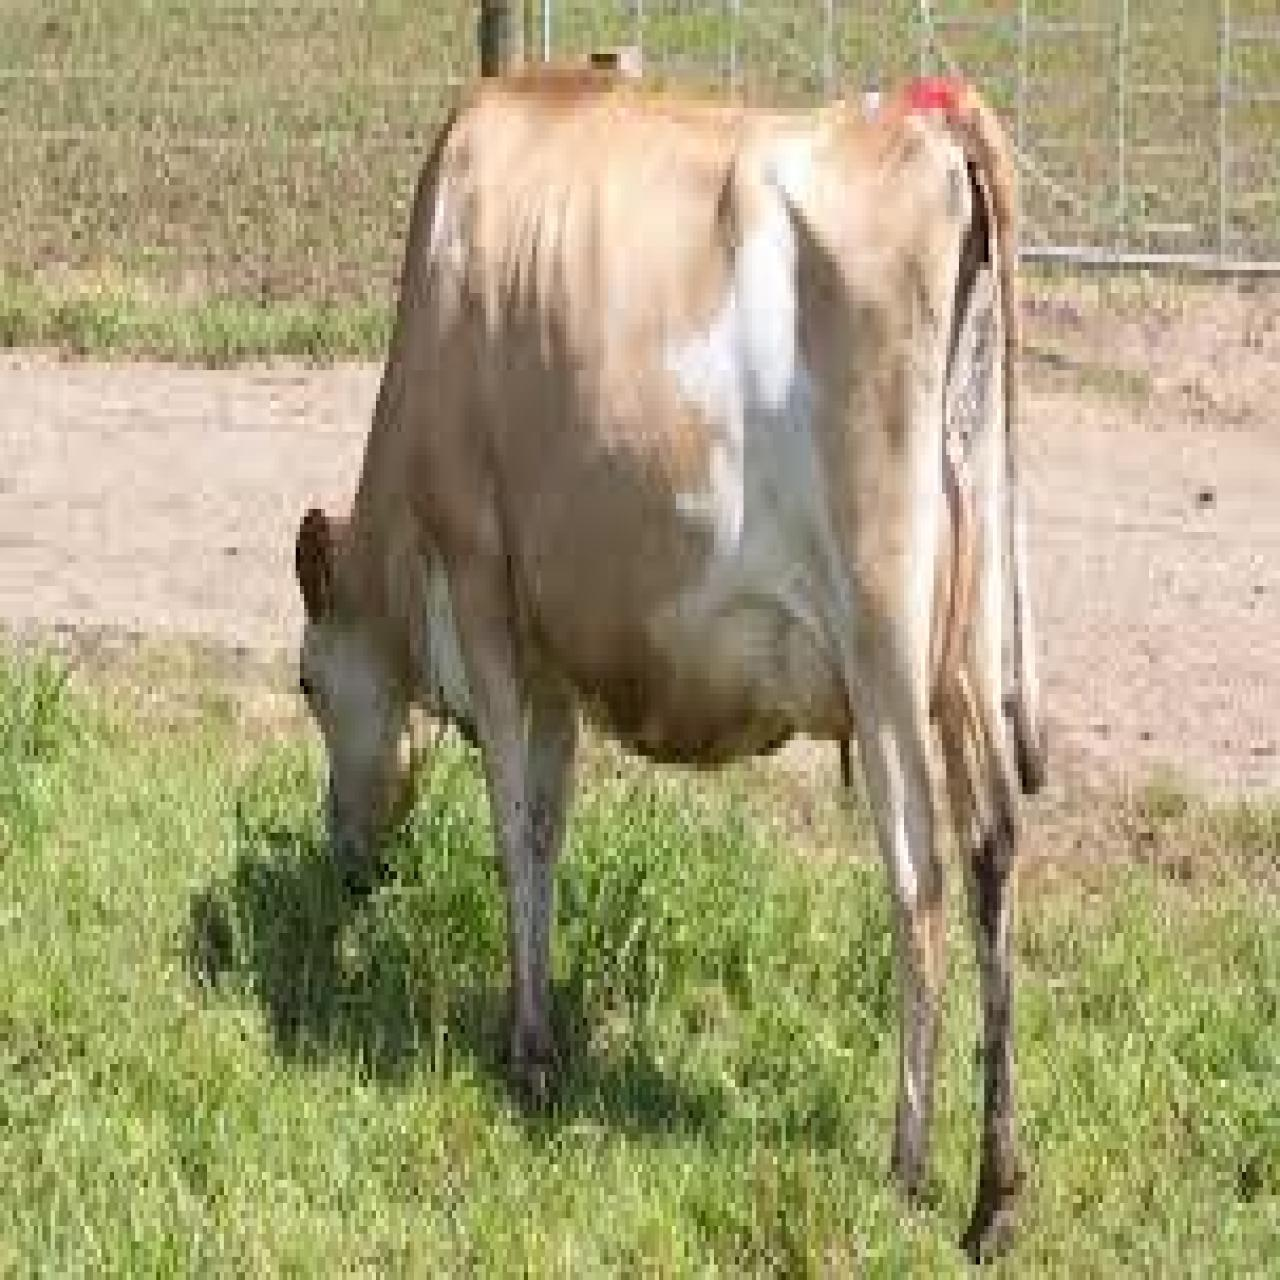cow: (300, 77, 1017, 1272)
